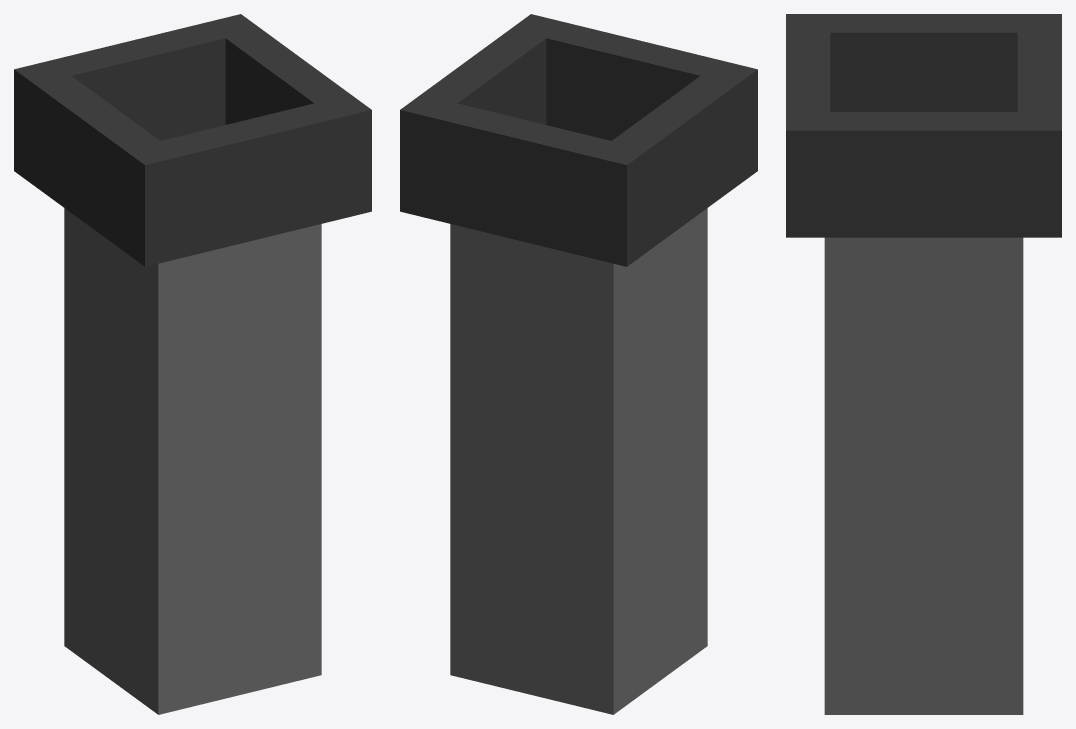
Rendered from Chimney2_C3.fbx.
3 views of the same model, side by side, from view 1: azimuth 30°, elevation 25°; view 2: azimuth 150°, elevation 25°; view 3: azimuth 270°, elevation 25° (orthographic). The views are drawn at different scales.
Parts seen in each view (by area): view 1: Chimney2_C3; view 2: Chimney2_C3; view 3: Chimney2_C3.
Part boxes in pixels (x1,y1,x2,y2): Chimney2_C3: (14,14,371,714); Chimney2_C3: (400,14,757,714); Chimney2_C3: (786,14,1061,714).
Bounding box in the file's own units: 55.59 × 134 × 55.59.
